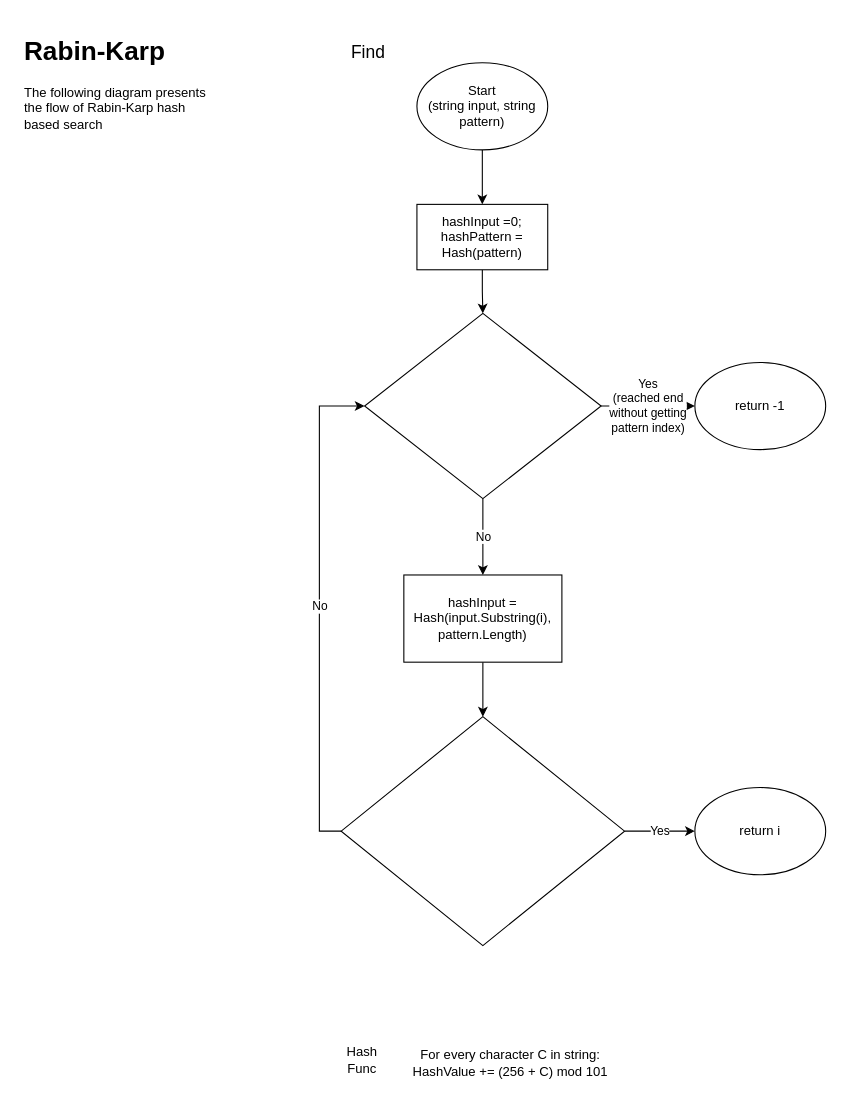
This 845x1111 diagram has some shape labels left out. The shapes that lost their labels are listed below. From the top down, each one's centre as x and y in pixels, then its label:
At (482,405): "i < input.Length - pattern.Length + 1".
At (482,831): "hashInput == hashPattern AND input[i..i+pattern.Length] == pattern".
